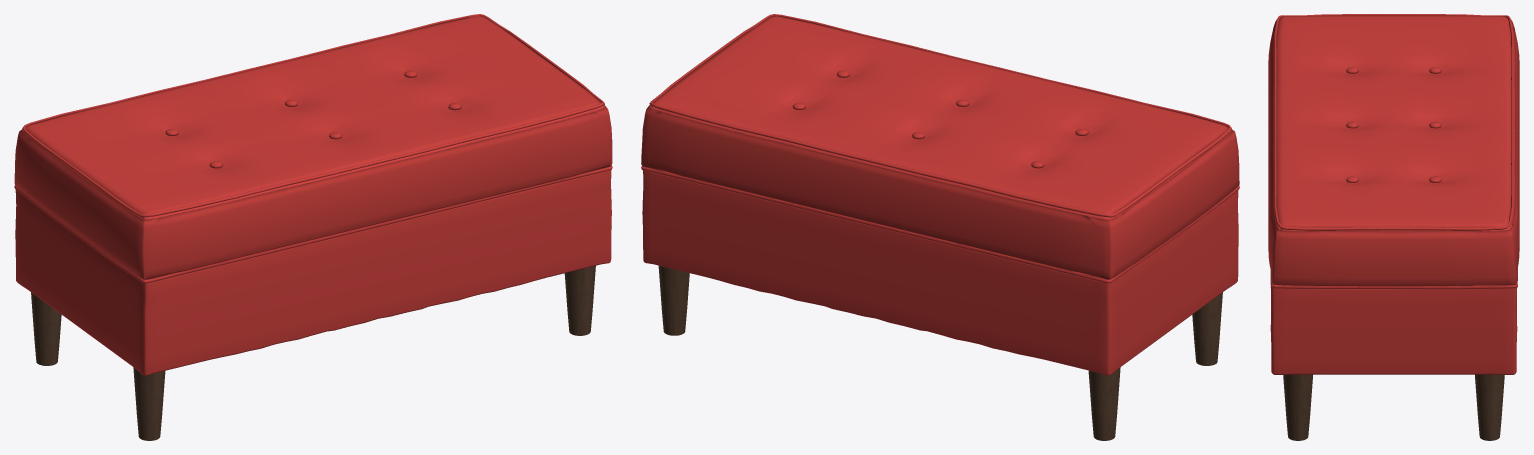
File: sofa_B073G7BVBP.glb
3 renders of one model, left to right at view 1: azimuth 30°, elevation 25°; view 2: azimuth 150°, elevation 25°; view 3: azimuth 270°, elevation 25°, orthographic. The views are drawn at different scales.
Visible parts, largest first — view 1: RootNode; view 2: RootNode; view 3: RootNode.
Part boxes in pixels (x1,y1,x2,y2): RootNode: (14,14,612,440); RootNode: (641,14,1239,440); RootNode: (1268,14,1519,440).
Size of the model in its own units: 1.02 by 0.4708 by 0.4918.
2 materials, 2 textured.
